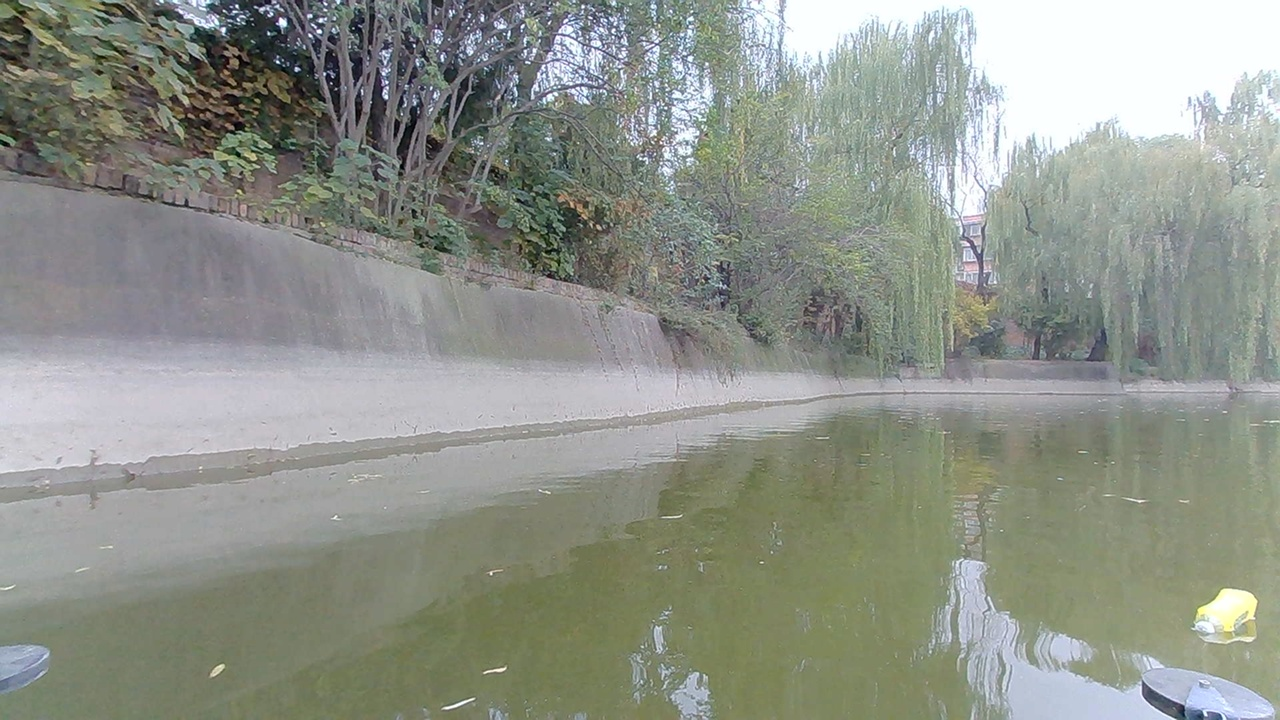bottle: (1192, 591, 1266, 644)
